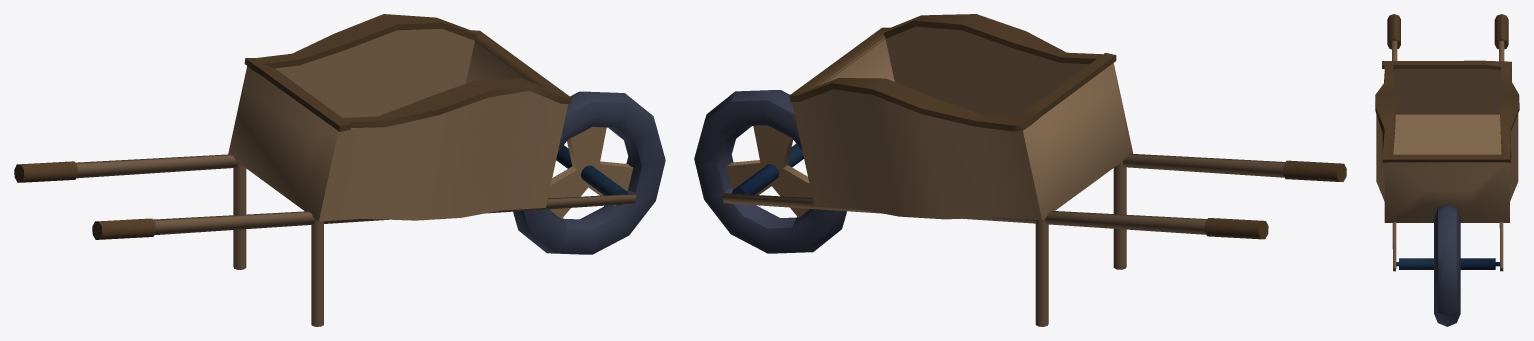
The model's file is Wheelbarrow.fbx.
3 renders of one model, left to right at view 1: azimuth 30°, elevation 25°; view 2: azimuth 150°, elevation 25°; view 3: azimuth 270°, elevation 25°, orthographic. The views are drawn at different scales.
Parts seen in each view (by area): view 1: node_abdad5da_1adf_4d6f_b7ae_8604b476fd61_mesh0, node_b4bab931_d12a_4297_889b_a58af97a5dac_mesh0, node_31f27bf0_9b72_47bb_a954_08fe287c19e5_mesh0, node_74097ea6_89ce_4029_96f0_2615aaf717a7_mesh0, node_ebc8cfdd_73ba_4333_b6ec_b2ecf5263f7f_mesh0, node_0cfed294_d7d2_4ddd_a7aa_5dda92dccdea_mesh0, node_8af02962_f240_40e5_b0a2_1413acd74c85_mesh0, node_b16058d6_7b62_4f32_b253_d3f6cc41f326_mesh0, node_072924eb_a620_4936_8b5b_2cf1d89cb4b3_mesh0, node_d0956fa9_25c0_4b24_9141_e225292733f3_mesh0, node_9f9a6e12_416b_4ac4_a5d3_9780a40e7f13_mesh0, node_a076e20a_c09c_4303_bcde_99ac84aad553_mesh0 (+1 smaller); view 2: node_abdad5da_1adf_4d6f_b7ae_8604b476fd61_mesh0, node_b4bab931_d12a_4297_889b_a58af97a5dac_mesh0, node_31f27bf0_9b72_47bb_a954_08fe287c19e5_mesh0, node_ebc8cfdd_73ba_4333_b6ec_b2ecf5263f7f_mesh0, node_74097ea6_89ce_4029_96f0_2615aaf717a7_mesh0, node_b16058d6_7b62_4f32_b253_d3f6cc41f326_mesh0, node_8af02962_f240_40e5_b0a2_1413acd74c85_mesh0, node_0cfed294_d7d2_4ddd_a7aa_5dda92dccdea_mesh0, node_072924eb_a620_4936_8b5b_2cf1d89cb4b3_mesh0, node_d0956fa9_25c0_4b24_9141_e225292733f3_mesh0, node_9f9a6e12_416b_4ac4_a5d3_9780a40e7f13_mesh0, node_a076e20a_c09c_4303_bcde_99ac84aad553_mesh0 (+1 smaller); view 3: node_abdad5da_1adf_4d6f_b7ae_8604b476fd61_mesh0, node_31f27bf0_9b72_47bb_a954_08fe287c19e5_mesh0, node_b4bab931_d12a_4297_889b_a58af97a5dac_mesh0, node_a076e20a_c09c_4303_bcde_99ac84aad553_mesh0, node_072924eb_a620_4936_8b5b_2cf1d89cb4b3_mesh0, node_d0956fa9_25c0_4b24_9141_e225292733f3_mesh0, node_74097ea6_89ce_4029_96f0_2615aaf717a7_mesh0, node_ebc8cfdd_73ba_4333_b6ec_b2ecf5263f7f_mesh0.
Part boxes in pixels (x1,y1,x2,y2): node_abdad5da_1adf_4d6f_b7ae_8604b476fd61_mesh0: [228, 29, 567, 221]; node_b4bab931_d12a_4297_889b_a58af97a5dac_mesh0: [513, 91, 665, 254]; node_31f27bf0_9b72_47bb_a954_08fe287c19e5_mesh0: [244, 14, 572, 131]; node_74097ea6_89ce_4029_96f0_2615aaf717a7_mesh0: [153, 194, 636, 235]; node_ebc8cfdd_73ba_4333_b6ec_b2ecf5263f7f_mesh0: [75, 154, 236, 178]; node_0cfed294_d7d2_4ddd_a7aa_5dda92dccdea_mesh0: [311, 219, 323, 326]; node_8af02962_f240_40e5_b0a2_1413acd74c85_mesh0: [567, 127, 606, 178]; node_b16058d6_7b62_4f32_b253_d3f6cc41f326_mesh0: [233, 162, 246, 269]; node_072924eb_a620_4936_8b5b_2cf1d89cb4b3_mesh0: [14, 161, 77, 182]; node_d0956fa9_25c0_4b24_9141_e225292733f3_mesh0: [92, 218, 155, 239]; node_9f9a6e12_416b_4ac4_a5d3_9780a40e7f13_mesh0: [548, 164, 589, 218]; node_a076e20a_c09c_4303_bcde_99ac84aad553_mesh0: [556, 145, 627, 204]; node_abdad5da_1adf_4d6f_b7ae_8604b476fd61_mesh0: [792, 26, 1133, 220]; node_b4bab931_d12a_4297_889b_a58af97a5dac_mesh0: [694, 90, 846, 253]; node_31f27bf0_9b72_47bb_a954_08fe287c19e5_mesh0: [789, 14, 1116, 131]; node_ebc8cfdd_73ba_4333_b6ec_b2ecf5263f7f_mesh0: [722, 193, 1207, 234]; node_74097ea6_89ce_4029_96f0_2615aaf717a7_mesh0: [1123, 153, 1285, 177]; node_b16058d6_7b62_4f32_b253_d3f6cc41f326_mesh0: [1035, 218, 1048, 326]; node_8af02962_f240_40e5_b0a2_1413acd74c85_mesh0: [753, 125, 793, 177]; node_0cfed294_d7d2_4ddd_a7aa_5dda92dccdea_mesh0: [1113, 161, 1126, 269]; node_072924eb_a620_4936_8b5b_2cf1d89cb4b3_mesh0: [1204, 218, 1268, 239]; node_d0956fa9_25c0_4b24_9141_e225292733f3_mesh0: [1283, 160, 1346, 181]; node_9f9a6e12_416b_4ac4_a5d3_9780a40e7f13_mesh0: [770, 164, 812, 217]; node_a076e20a_c09c_4303_bcde_99ac84aad553_mesh0: [732, 143, 803, 194]; node_abdad5da_1adf_4d6f_b7ae_8604b476fd61_mesh0: [1376, 69, 1518, 222]; node_31f27bf0_9b72_47bb_a954_08fe287c19e5_mesh0: [1375, 60, 1519, 162]; node_b4bab931_d12a_4297_889b_a58af97a5dac_mesh0: [1434, 203, 1460, 326]; node_a076e20a_c09c_4303_bcde_99ac84aad553_mesh0: [1399, 258, 1495, 269]; node_072924eb_a620_4936_8b5b_2cf1d89cb4b3_mesh0: [1494, 14, 1508, 49]; node_d0956fa9_25c0_4b24_9141_e225292733f3_mesh0: [1387, 14, 1400, 49]; node_74097ea6_89ce_4029_96f0_2615aaf717a7_mesh0: [1392, 40, 1397, 271]; node_ebc8cfdd_73ba_4333_b6ec_b2ecf5263f7f_mesh0: [1499, 40, 1504, 271].
Bounding box in the file's own units: 39523 × 14875 × 11800.
1 material, 1 textured.
